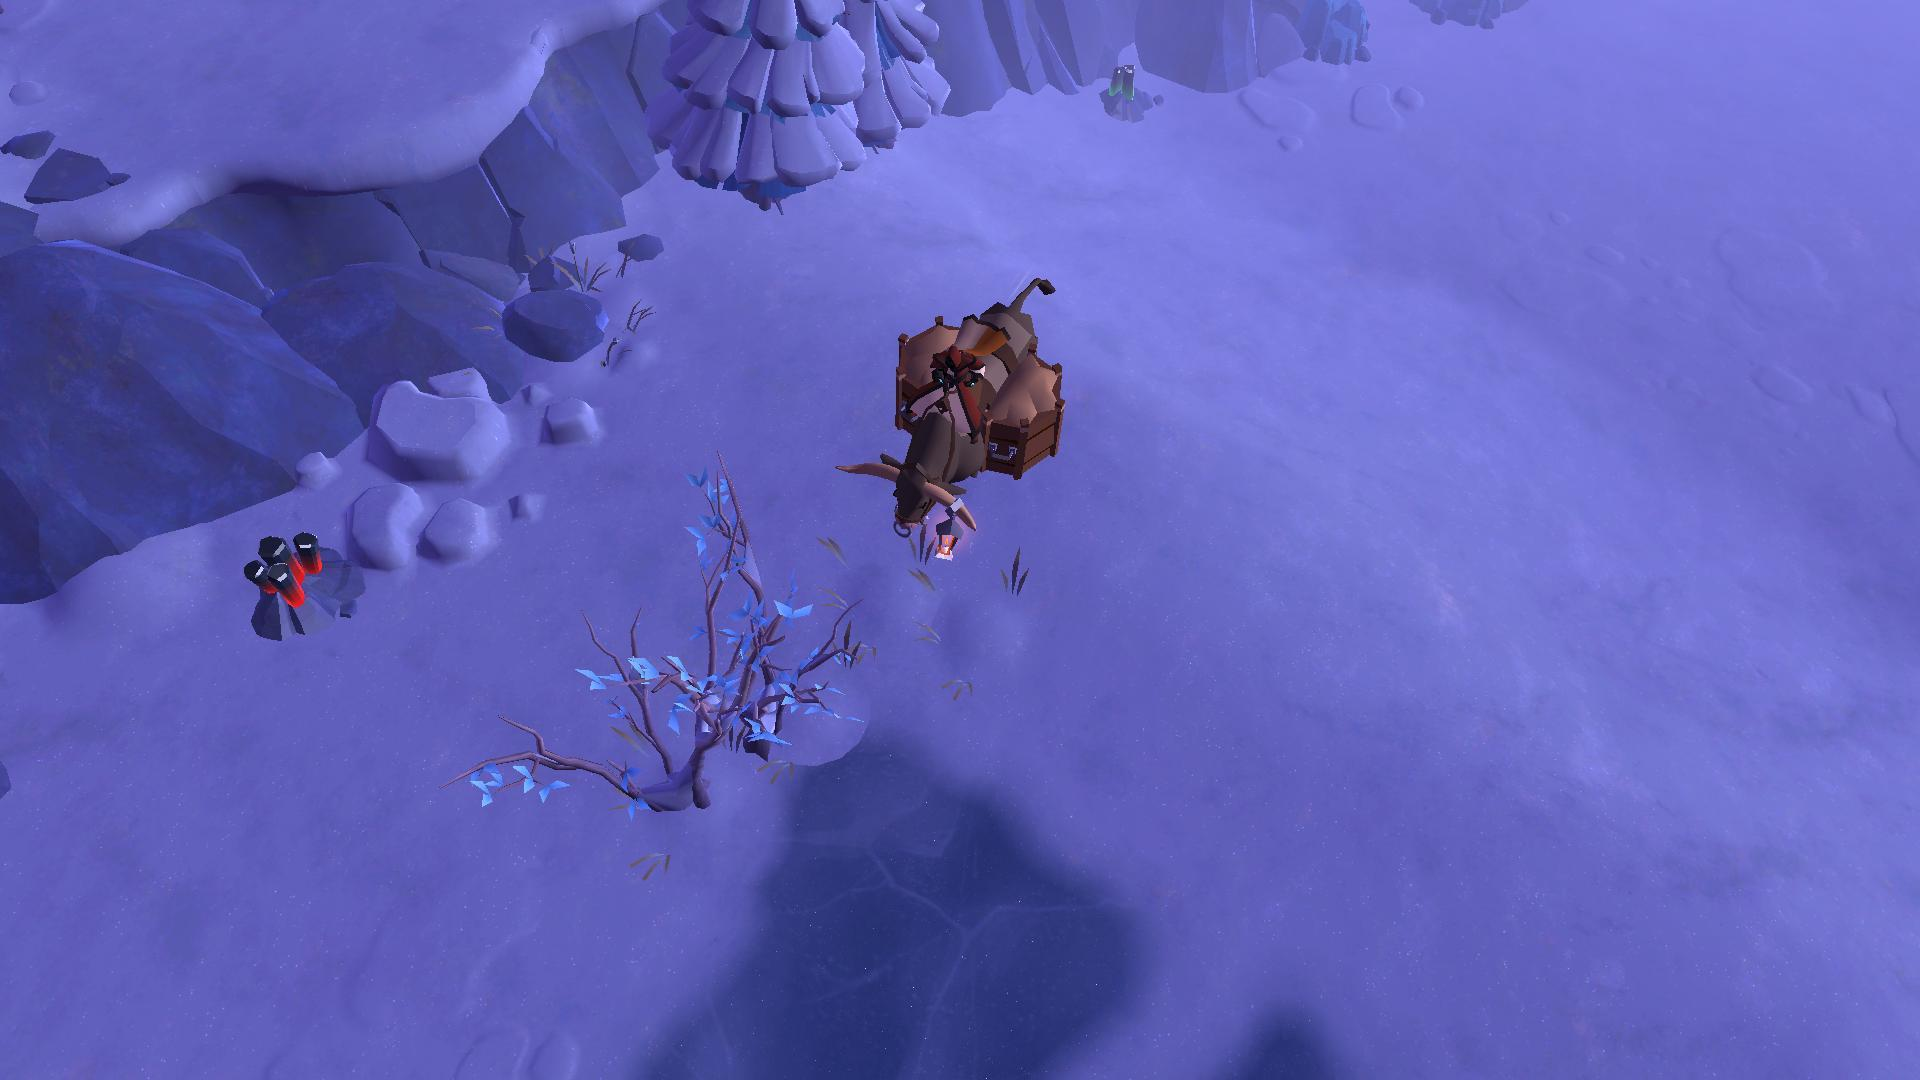ore_t3: (1104, 63, 1139, 102)
ore_t5: (239, 524, 322, 609)
rock_t4: (1291, 0, 1381, 74)
